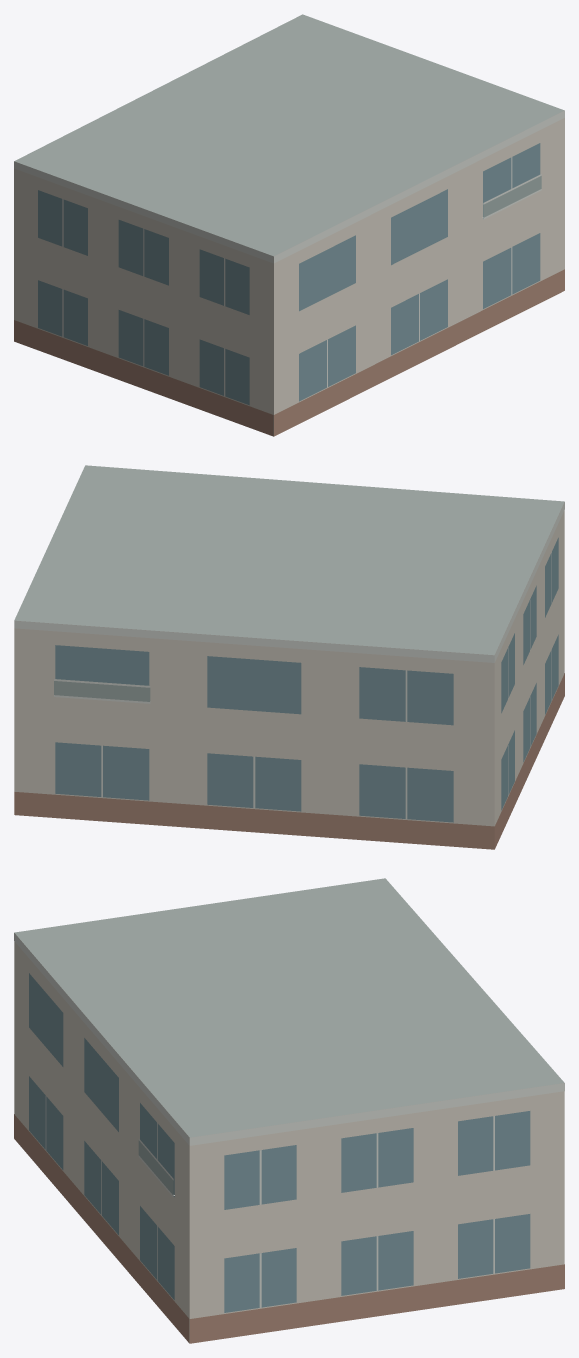
File: survey-upis-32523633.glb
The picture shows the model from 3 angles, top to bottom: view 1: azimuth 30°, elevation 25°; view 2: azimuth 150°, elevation 25°; view 3: azimuth 270°, elevation 25°; orthographic projection. The views are drawn at different scales.
Parts seen in each view (by area): view 1: survey-upis-32523633.tmp; view 2: survey-upis-32523633.tmp; view 3: survey-upis-32523633.tmp.
Boxes of the visible parts, bbox=[...] form: survey-upis-32523633.tmp: bbox=[14, 14, 564, 436]; survey-upis-32523633.tmp: bbox=[14, 465, 564, 849]; survey-upis-32523633.tmp: bbox=[14, 878, 564, 1343].
Bounding box in the file's own units: 16.49 × 6.1 × 14.79.
